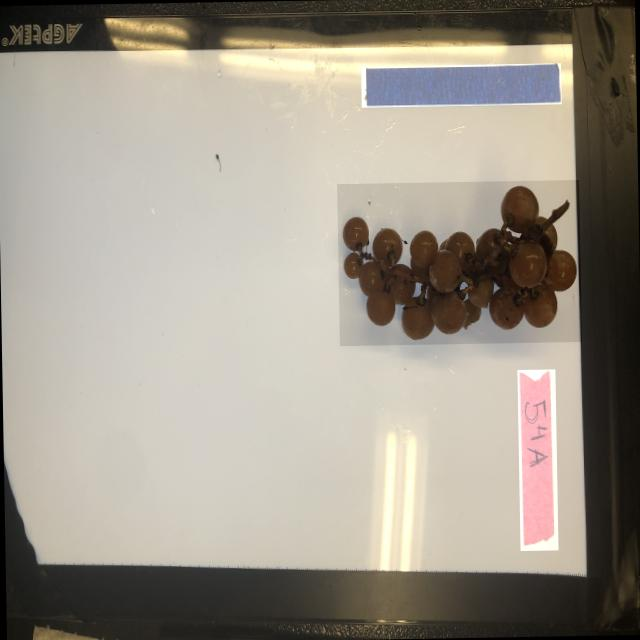grape_cluster: (336, 180, 580, 346)
index: (516, 369, 556, 551)
measure_label: (360, 63, 560, 107)
